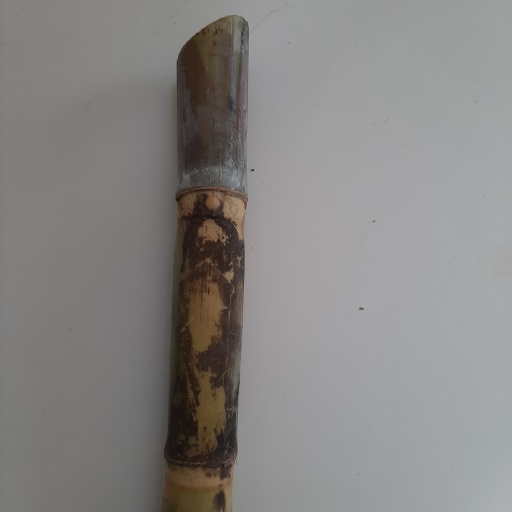Bud: (204, 193, 223, 217)
